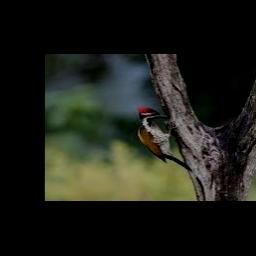Woodpecker: (138, 107, 192, 171)
